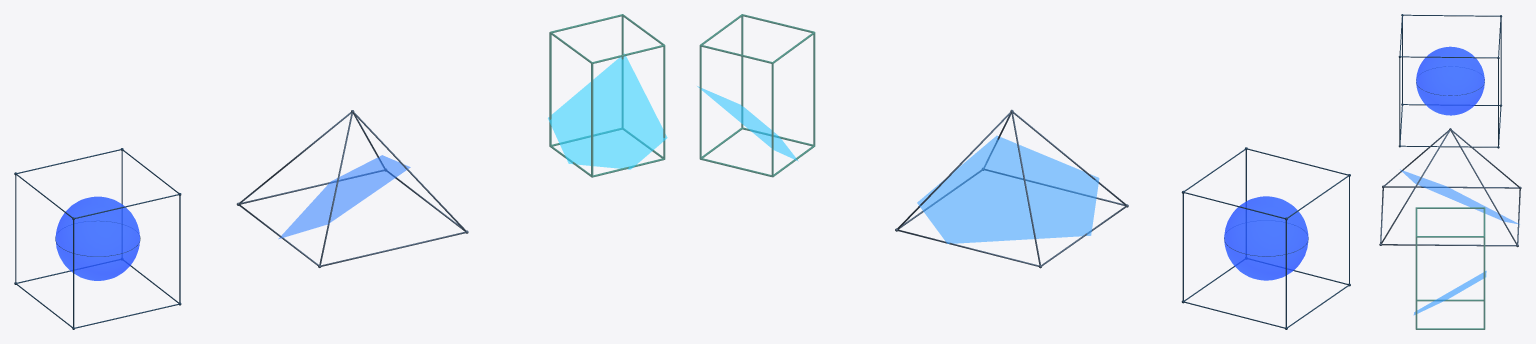
Rendered from фигуры_матан.glb.
3 views of the same model, side by side, from view 1: azimuth 30°, elevation 25°; view 2: azimuth 150°, elevation 25°; view 3: azimuth 270°, elevation 25° (orthographic). The views are drawn at different scales.
Parts seen in each view (by area): view 1: Plane.001, Сфера.001, Plane, Sphere.002, Пирамида, каркас; view 2: Plane, Сфера.001, Sphere.002, Пирамида, каркас, Plane.001; view 3: Сфера.001, Пирамида, Sphere.002, каркас, Plane, Plane.001.
Boxes of the visible parts, left/top/right/bottom form: Plane.001: left=548, top=53, right=667, bottom=169; Сфера.001: left=55, top=196, right=139, bottom=280; Plane: left=278, top=155, right=410, bottom=238; Sphere.002: left=549, top=14, right=665, bottom=177; Пирамида: left=236, top=110, right=468, bottom=267; каркас: left=14, top=148, right=181, bottom=329; Plane: left=917, top=135, right=1099, bottom=243; Сфера.001: left=1224, top=196, right=1308, bottom=280; Sphere.002: left=699, top=14, right=815, bottom=177; Пирамида: left=895, top=109, right=1128, bottom=268; каркас: left=1181, top=147, right=1350, bottom=329; Plane.001: left=697, top=86, right=798, bottom=161; Сфера.001: left=1416, top=46, right=1484, bottom=115; Пирамида: left=1379, top=128, right=1521, bottom=247; Sphere.002: left=1415, top=207, right=1485, bottom=329; каркас: left=1398, top=14, right=1502, bottom=148; Plane: left=1400, top=169, right=1519, bottom=224; Plane.001: left=1414, top=271, right=1486, bottom=314.
Bounding box in the file's own units: 8.3 × 1.74 × 2.08.
